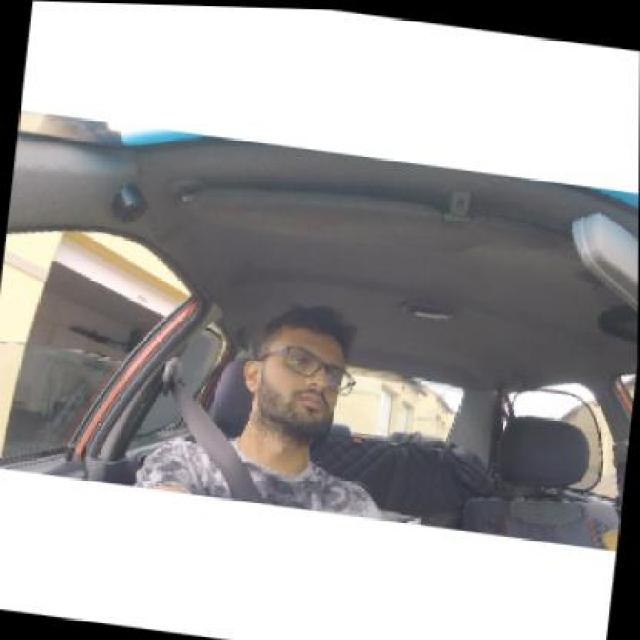LeftRight: (242, 292, 361, 447)
